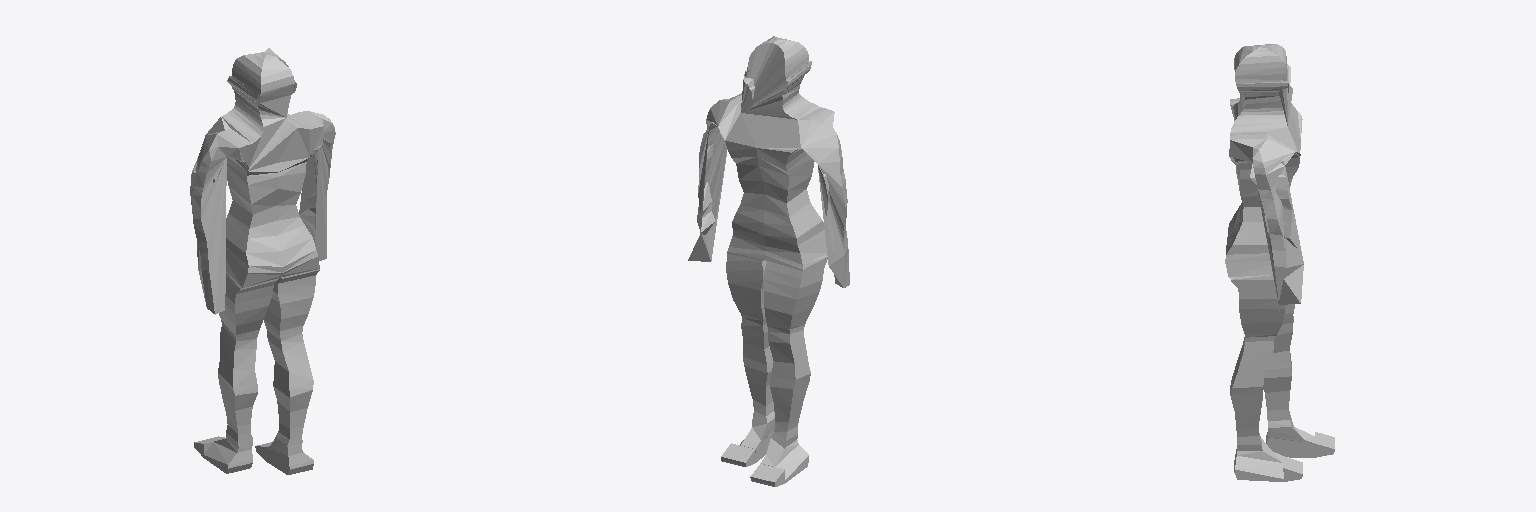
Rendered from woman_000005.obj.
3 renders of one model, left to right at view 1: azimuth 30°, elevation 25°; view 2: azimuth 150°, elevation 25°; view 3: azimuth 270°, elevation 25°, orthographic.
Parts seen in each view (by area): view 1: Cube_Cube.001; view 2: Cube_Cube.001; view 3: Cube_Cube.001.
Part boxes in pixels (left/top/right/bottom): Cube_Cube.001: left=190, top=48, right=335, bottom=474; Cube_Cube.001: left=688, top=36, right=849, bottom=486; Cube_Cube.001: left=1225, top=44, right=1334, bottom=481.
Size of the model in its own units: 3.52 by 9.95 by 2.37.